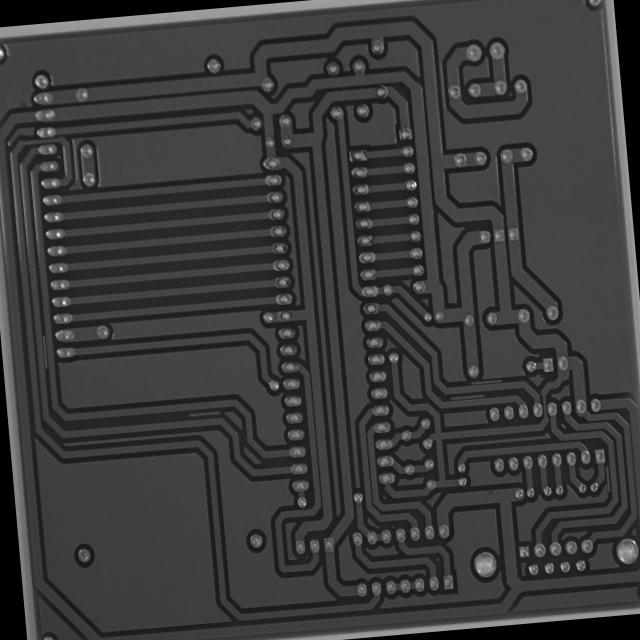spurious_copper: (184, 406, 222, 422), (467, 372, 505, 388), (38, 329, 52, 372), (448, 390, 486, 404), (602, 462, 614, 496)
